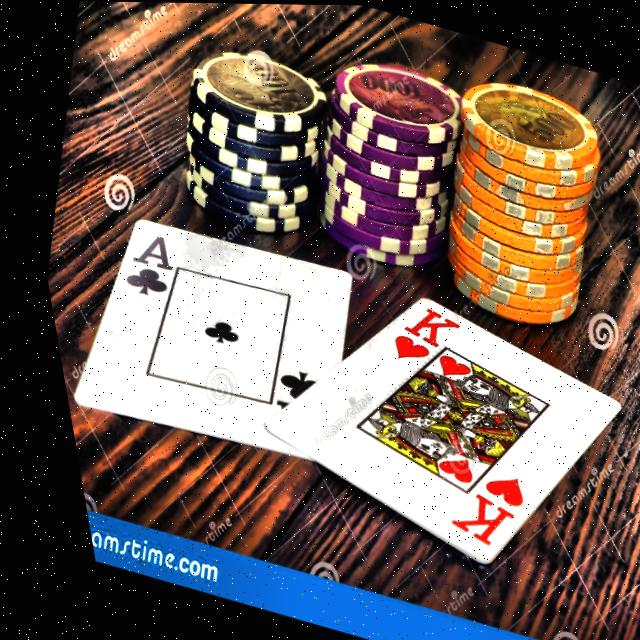Chip: (382, 61, 640, 340), (272, 42, 500, 290), (135, 28, 358, 260)
